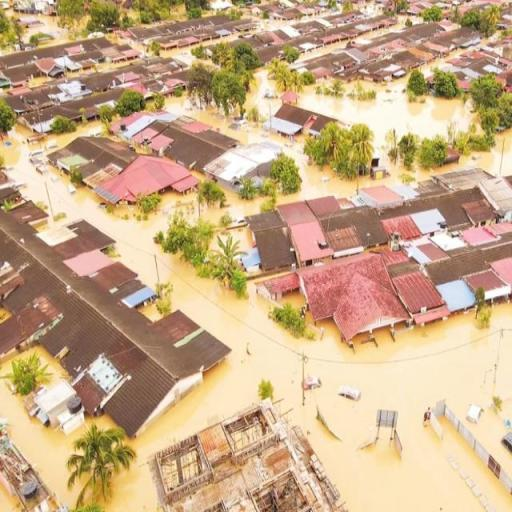flood: (0, 121, 512, 512), (270, 88, 455, 206), (0, 381, 90, 510), (286, 95, 462, 136), (414, 128, 512, 181), (145, 193, 185, 236), (198, 197, 259, 223), (198, 115, 249, 144), (165, 98, 201, 116)
house: (0, 187, 234, 443), (152, 400, 354, 512), (300, 228, 462, 336), (237, 194, 372, 276), (120, 111, 246, 180), (70, 144, 200, 206), (2, 38, 140, 78), (448, 248, 512, 312), (381, 202, 446, 240), (267, 102, 320, 145), (351, 182, 414, 211)
